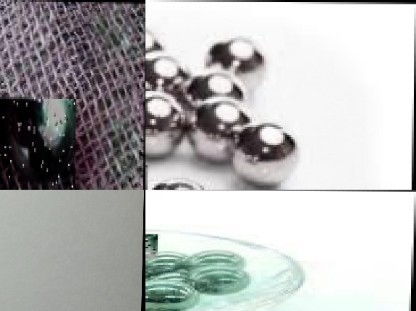ironball: (0, 96, 76, 189), (235, 118, 307, 189), (189, 94, 247, 158), (206, 35, 269, 92), (144, 49, 192, 108), (145, 92, 189, 152), (183, 265, 260, 296), (191, 70, 252, 104), (145, 280, 208, 311), (141, 253, 199, 278), (188, 249, 247, 272), (145, 173, 217, 190), (145, 234, 158, 259), (145, 165, 148, 190)
